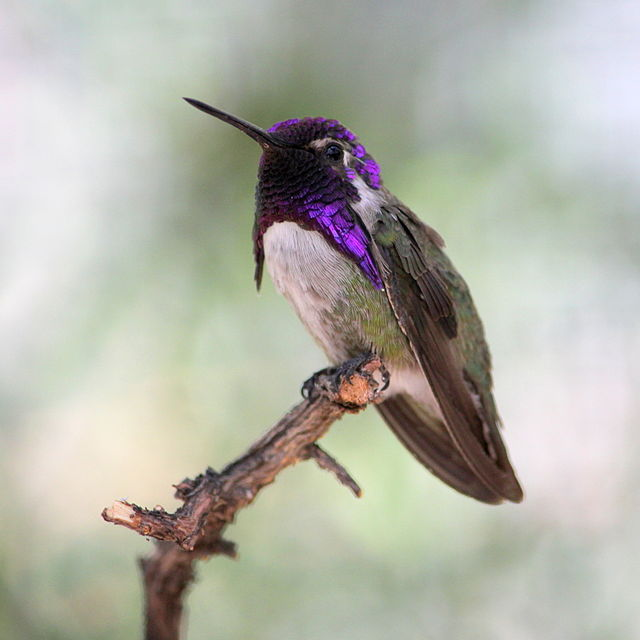calypte costae: (181, 92, 520, 502)
